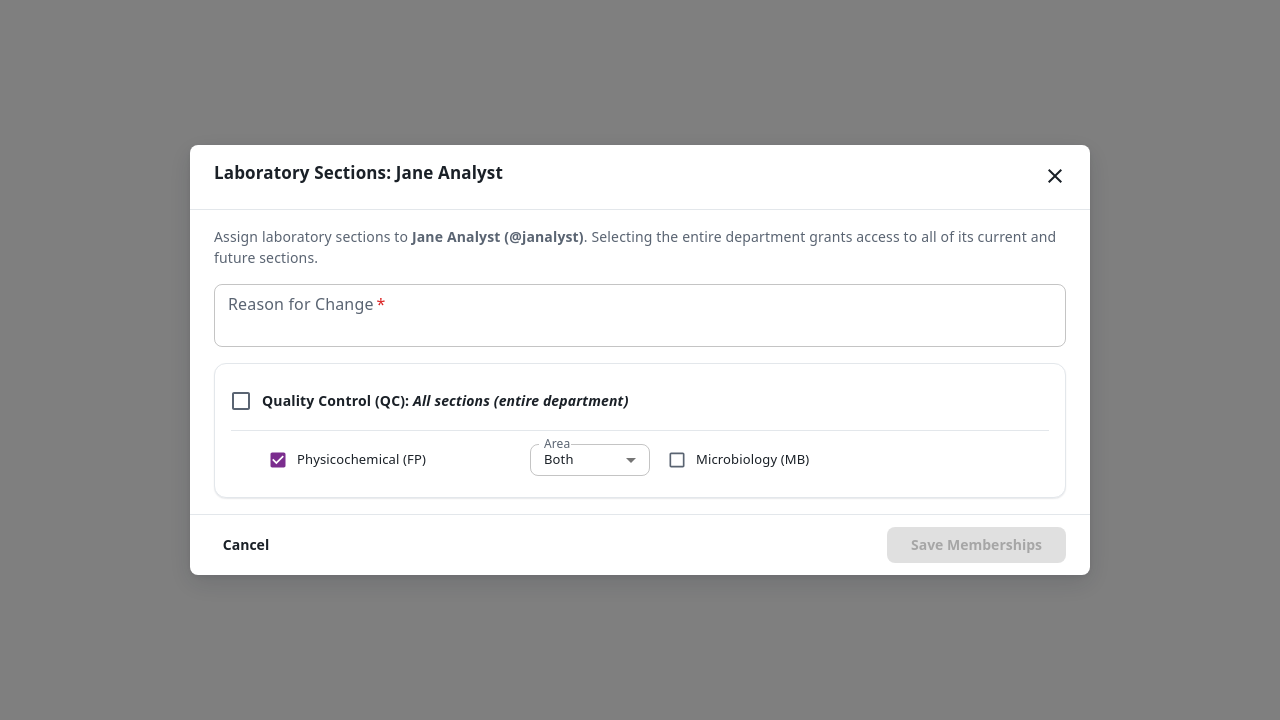
Test: UserSectionsDialog - Lane F5 S3 physchemArea › displays server error verbatim when save fails
Expected: the element with test id "physchem-area-select" is shown, [530, 444, 650, 476]
Type "test reason" into the text box labelled "Reason for Change *" at (640,315), box [228, 292, 1052, 338]
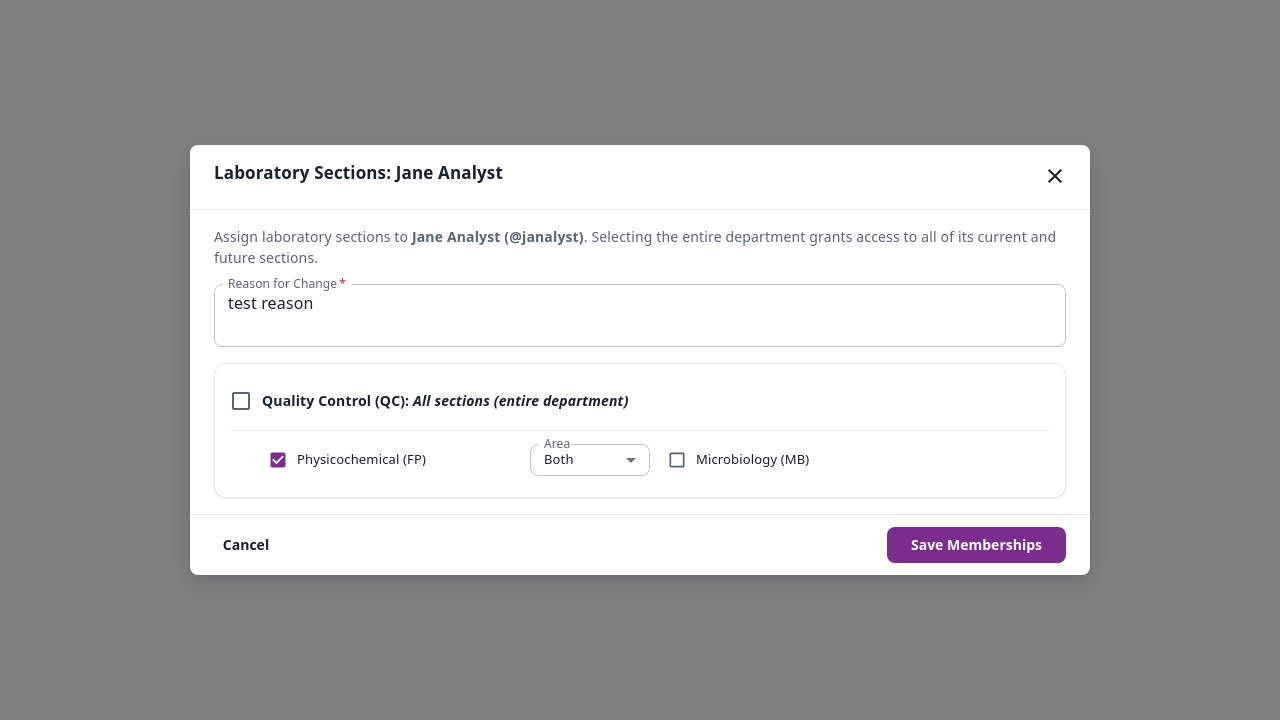
Click the button "Save Memberships" at (976,545), box [887, 527, 1066, 563]
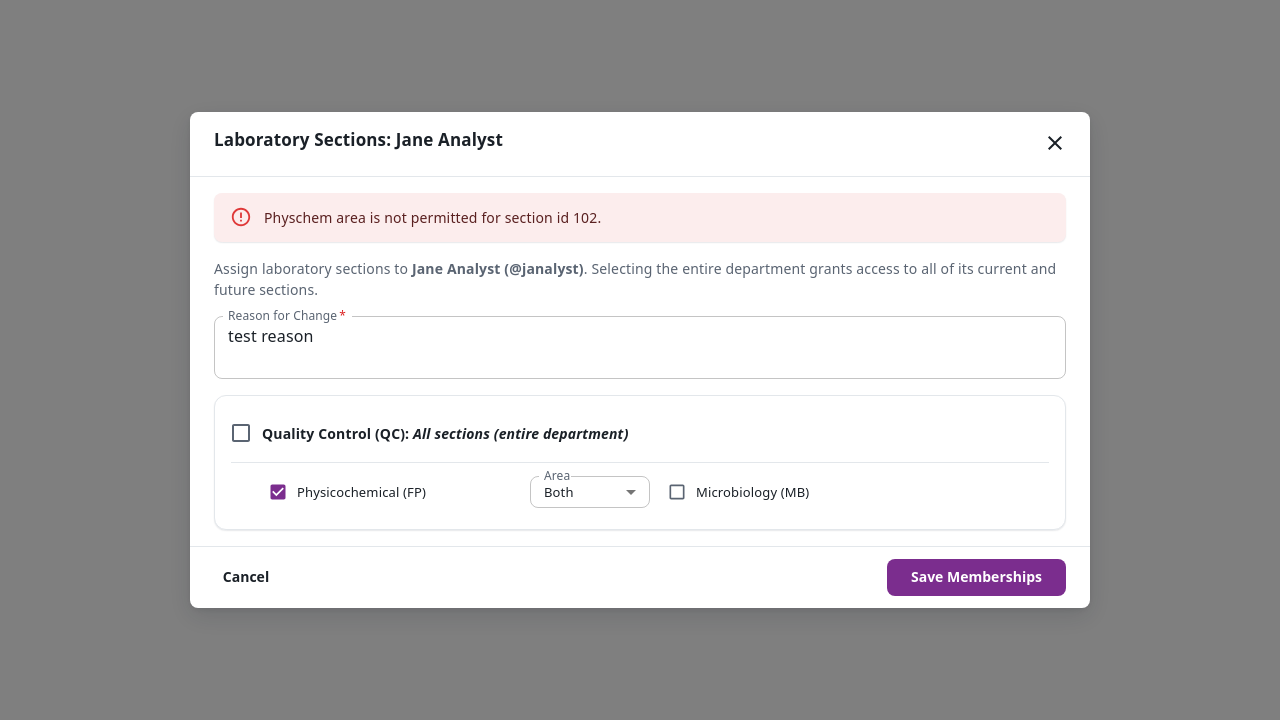
Result: the text "Physchem area is not permitted for section id 102." is shown at [264, 208, 601, 227]
